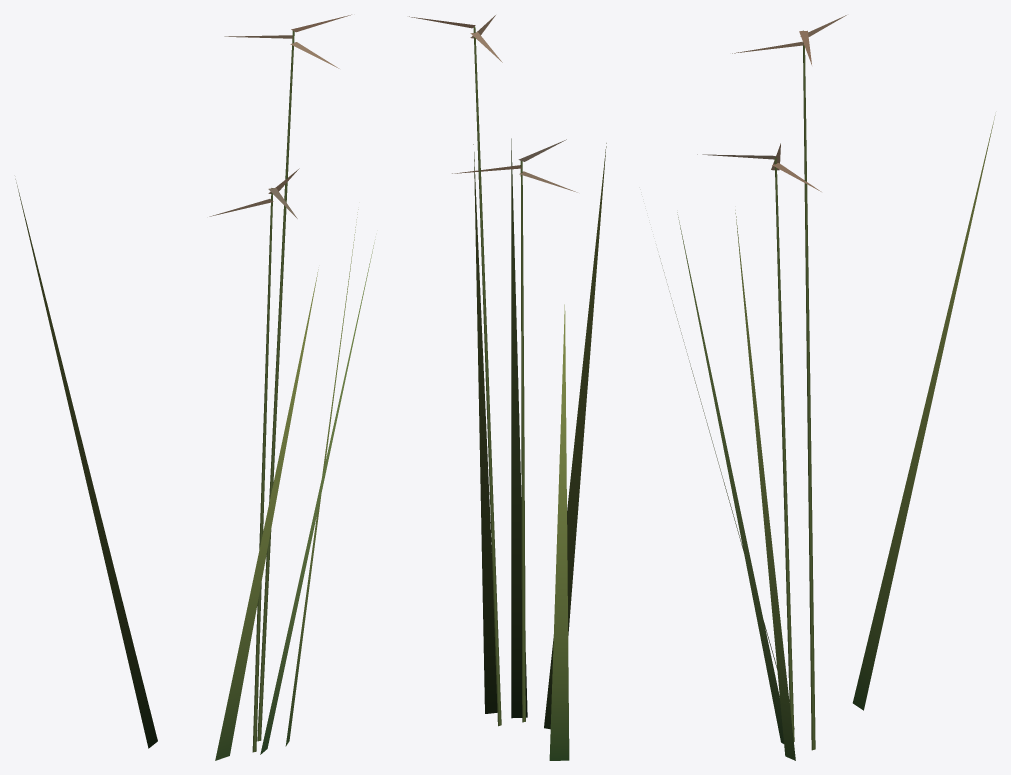
Rendered from reeds-phragmites-a.lod2.glb.
3 renders of one model, left to right at view 1: azimuth 30°, elevation 25°; view 2: azimuth 150°, elevation 25°; view 3: azimuth 270°, elevation 25°, orthographic. The views are drawn at different scales.
Parts seen in each view (by area): view 1: reeds-phragmites-a.lod2; view 2: reeds-phragmites-a.lod2; view 3: reeds-phragmites-a.lod2.
Boxes of the visible parts, x1,y1,x2,y2 form: reeds-phragmites-a.lod2: (15, 14, 375, 760); reeds-phragmites-a.lod2: (409, 15, 606, 760); reeds-phragmites-a.lod2: (659, 15, 995, 760).
Size of the model in its own units: 0.6805 by 1.82 by 0.8147.
